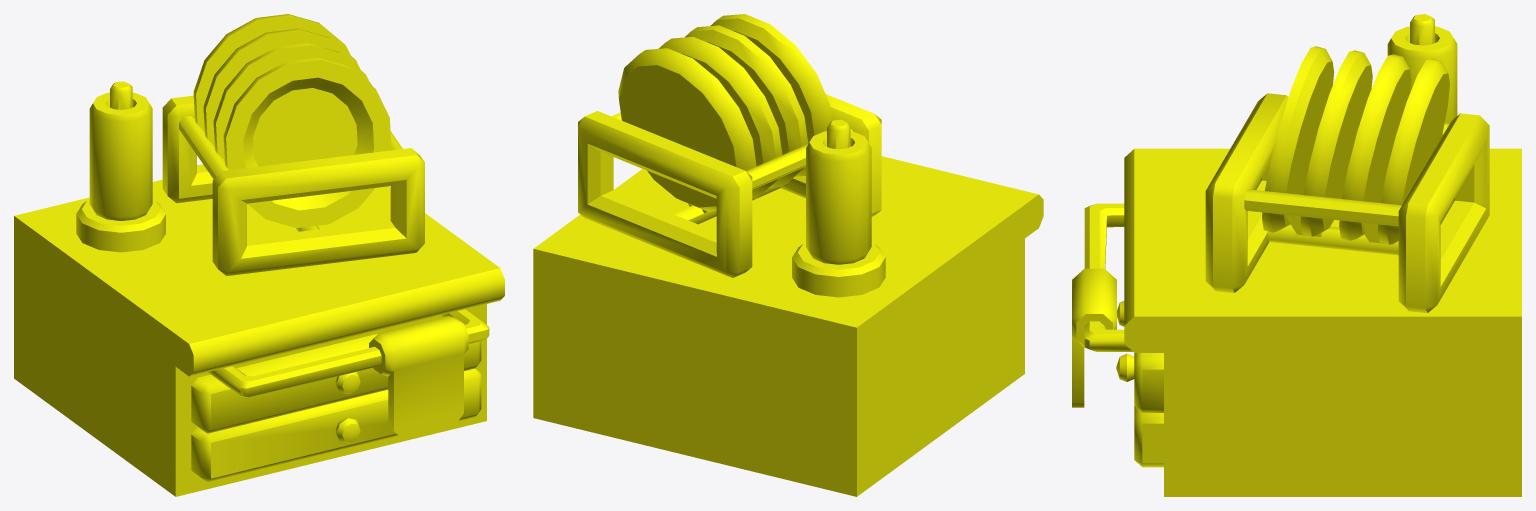
Rendered from kitchencounter_straight_A_decorated.gltf.
3 renders of one model, left to right at view 1: azimuth 30°, elevation 25°; view 2: azimuth 150°, elevation 25°; view 3: azimuth 270°, elevation 25°, orthographic. The views are drawn at different scales.
Visible parts, largest first — view 1: kitchencounter_straight_A_decorated; view 2: kitchencounter_straight_A_decorated; view 3: kitchencounter_straight_A_decorated.
Boxes of the visible parts, x1=… form: kitchencounter_straight_A_decorated: x1=14, y1=14, x2=504, y2=496; kitchencounter_straight_A_decorated: x1=533, y1=14, x2=1043, y2=496; kitchencounter_straight_A_decorated: x1=1072, y1=14, x2=1521, y2=496.
Size of the model in its own units: 2.01 by 2.1 by 2.26.
Materials: 1 (1 with a texture image).
